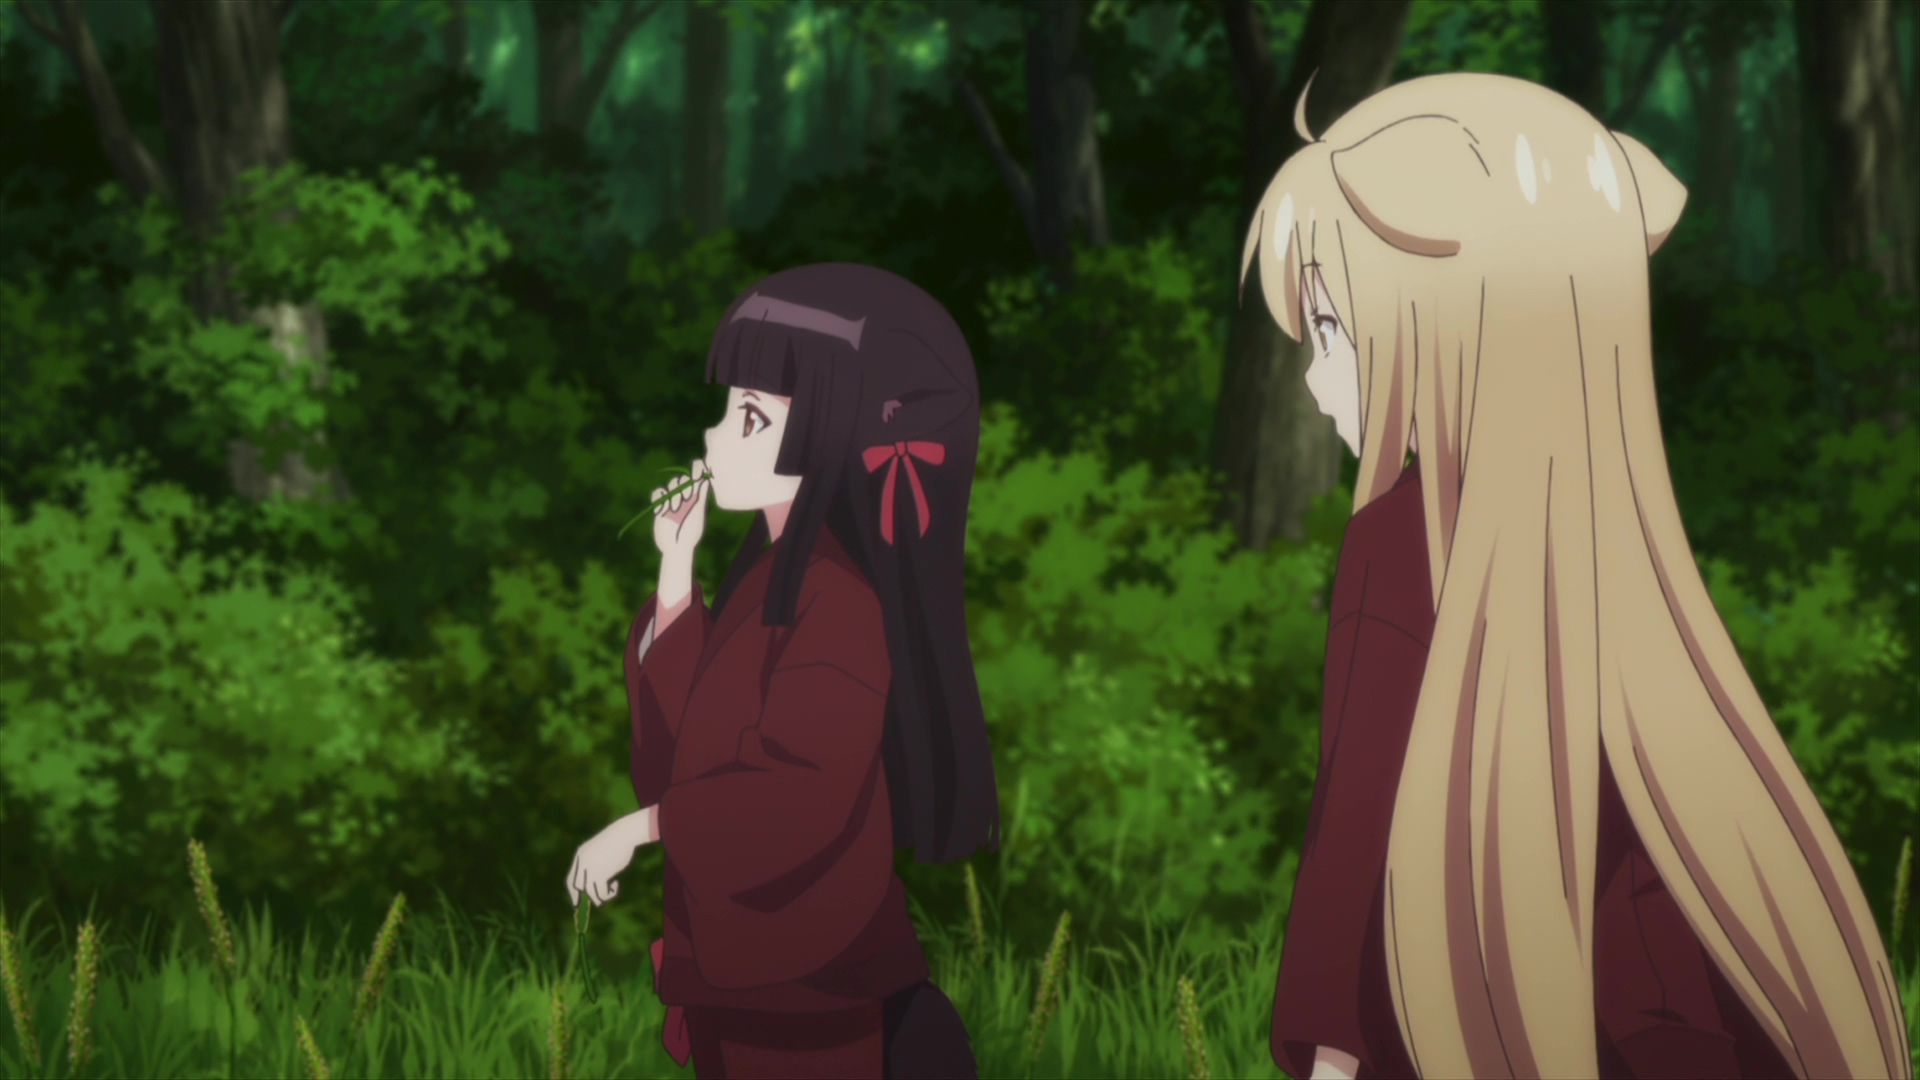柚: (1236, 71, 1909, 1080)
樱: (567, 265, 1001, 1080)
